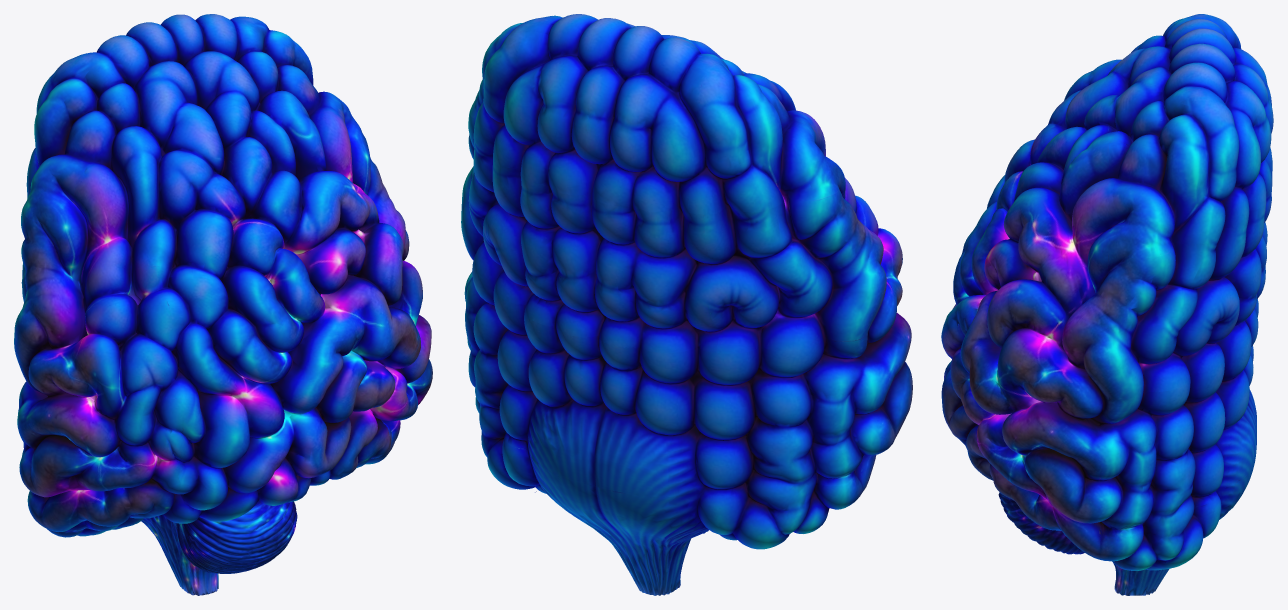
File: brain-solid.glb
3 renders of one model, left to right at view 1: azimuth 30°, elevation 25°; view 2: azimuth 150°, elevation 25°; view 3: azimuth 270°, elevation 25°, orthographic. The views are drawn at different scales.
Parts seen in each view (by area): view 1: world; view 2: world; view 3: world.
Boxes of the visible parts, x1,y1,x2,y2 form: world: (14,14,432,595); world: (461,14,912,595); world: (941,14,1273,595).
Size of the model in its own units: 0.7564 by 0.9999 by 0.5465.
1 material, 1 textured.
